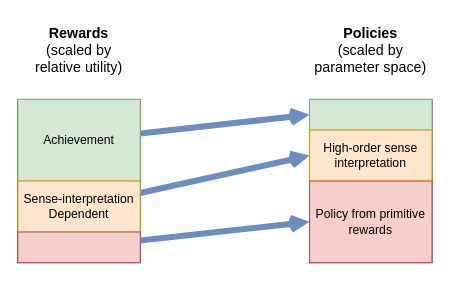
This 450x281 diagram has some shape labels left out. The centre of each missing label's shape, as x and y in pixels:
Modelling & Goal Decisioning: the point at 370,114
Primitive Rewards: the point at 78,247
